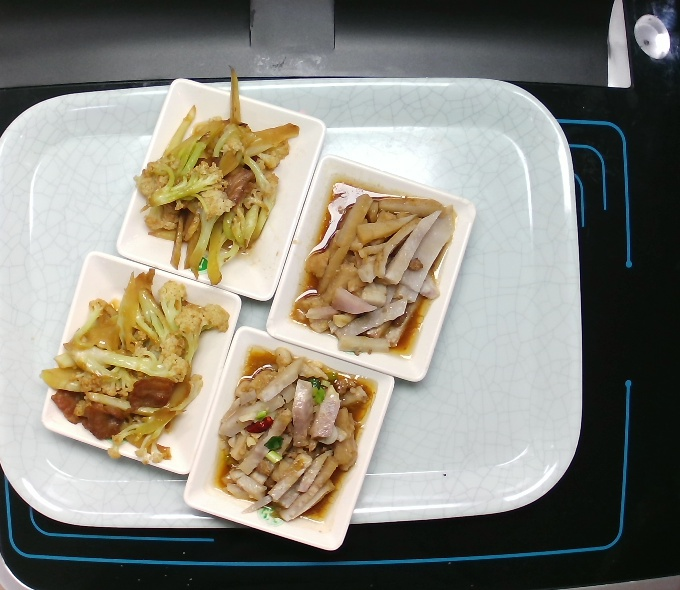wcq-QiuCaiChaoRou: (40, 264, 233, 465), (135, 64, 297, 291)
wcq-YuTou: (214, 354, 376, 534), (297, 190, 460, 358)
